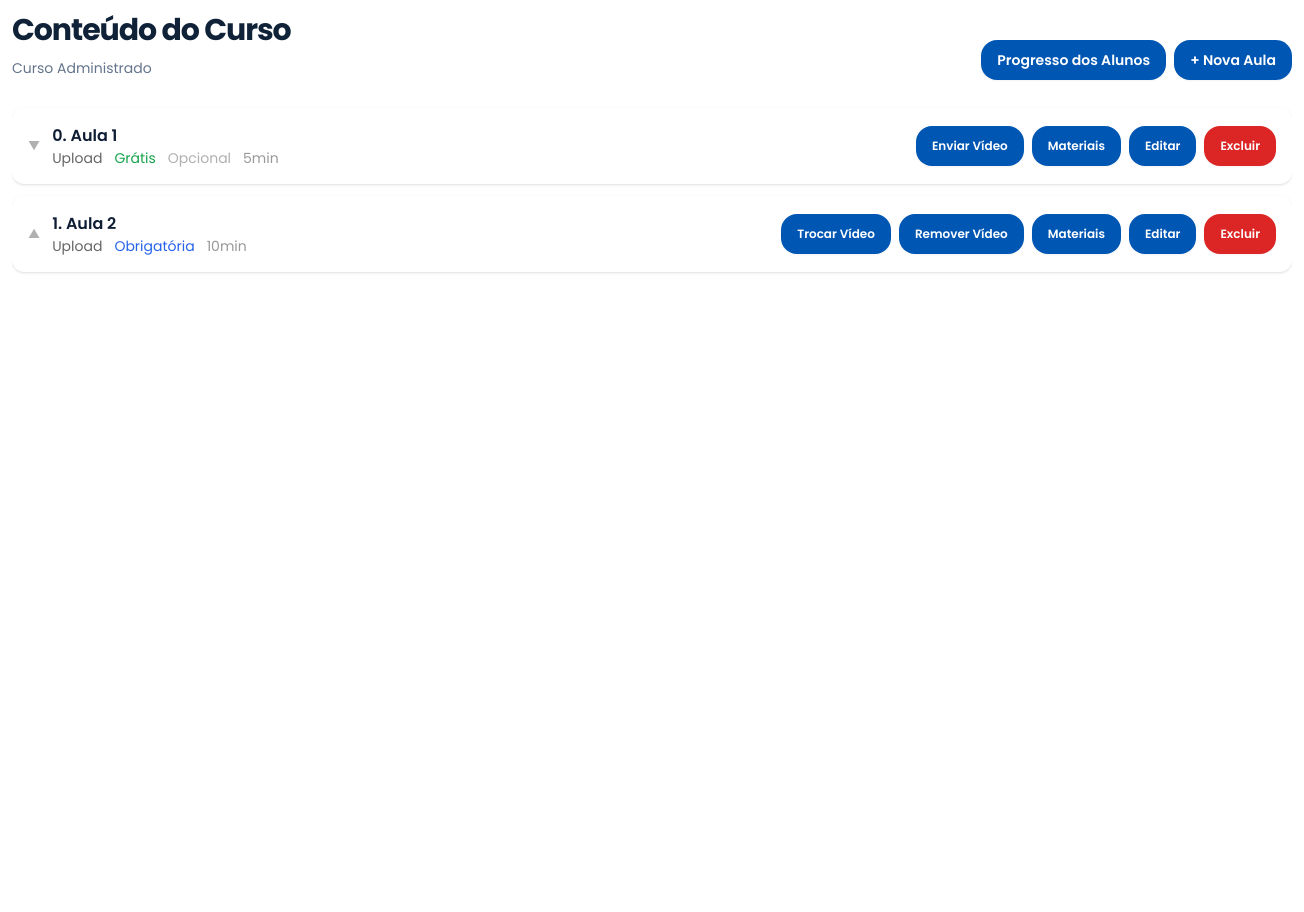
Test case: CourseLessons View › abre formulário com campo is_required ao clicar em Nova Aula
Click the button "+ Nova Aula" at (1233, 60), box x1=1174 y1=40 x2=1292 y2=80
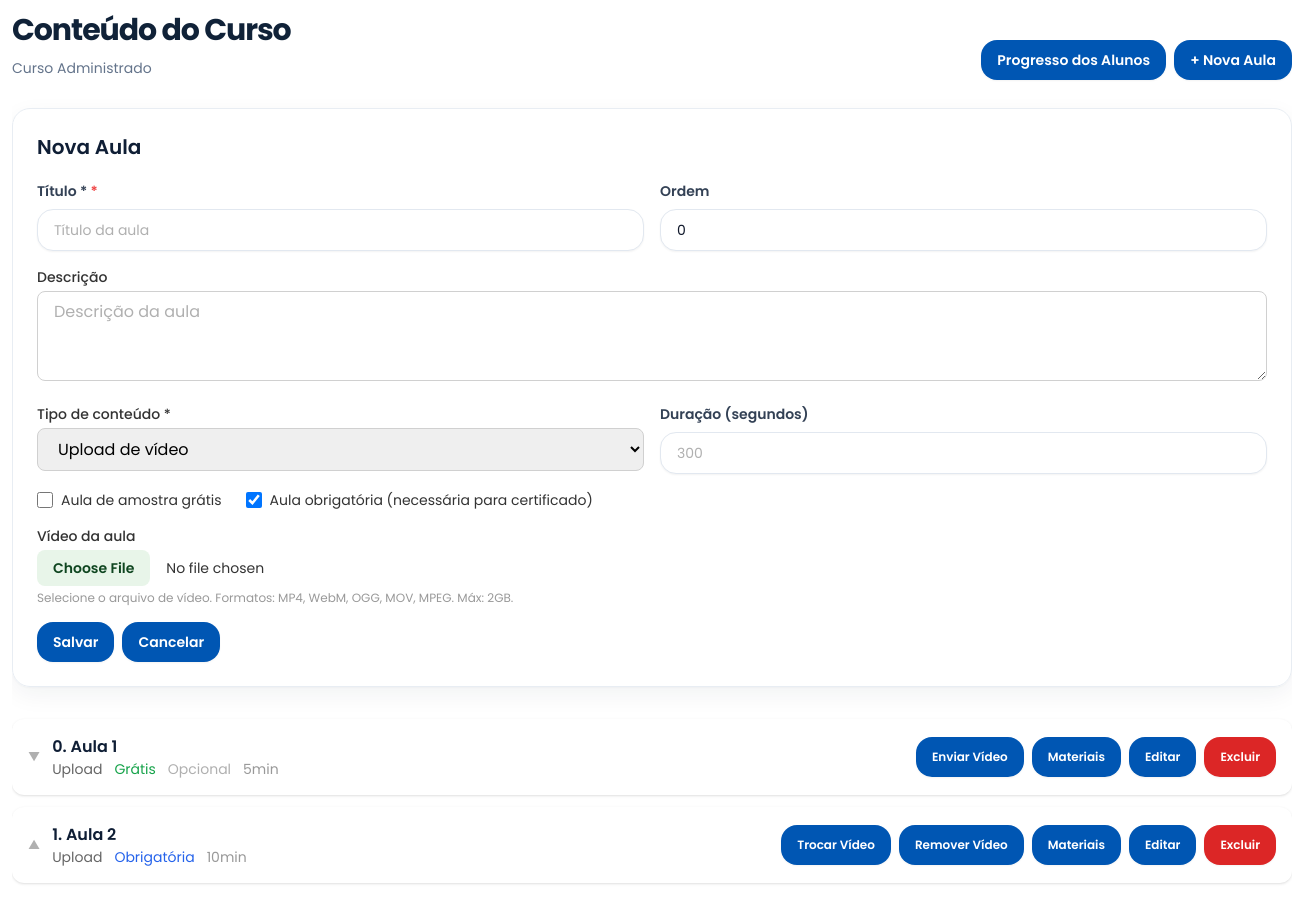
Now the text "Aula obrigatória" is shown, box x1=270 y1=490 x2=593 y2=510
